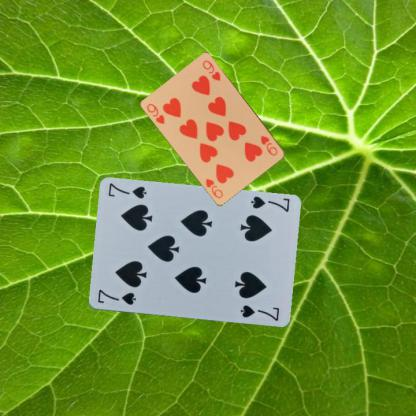7s: (248, 193, 290, 214), (95, 286, 138, 306)
9h: (144, 100, 166, 126), (258, 133, 279, 157)
